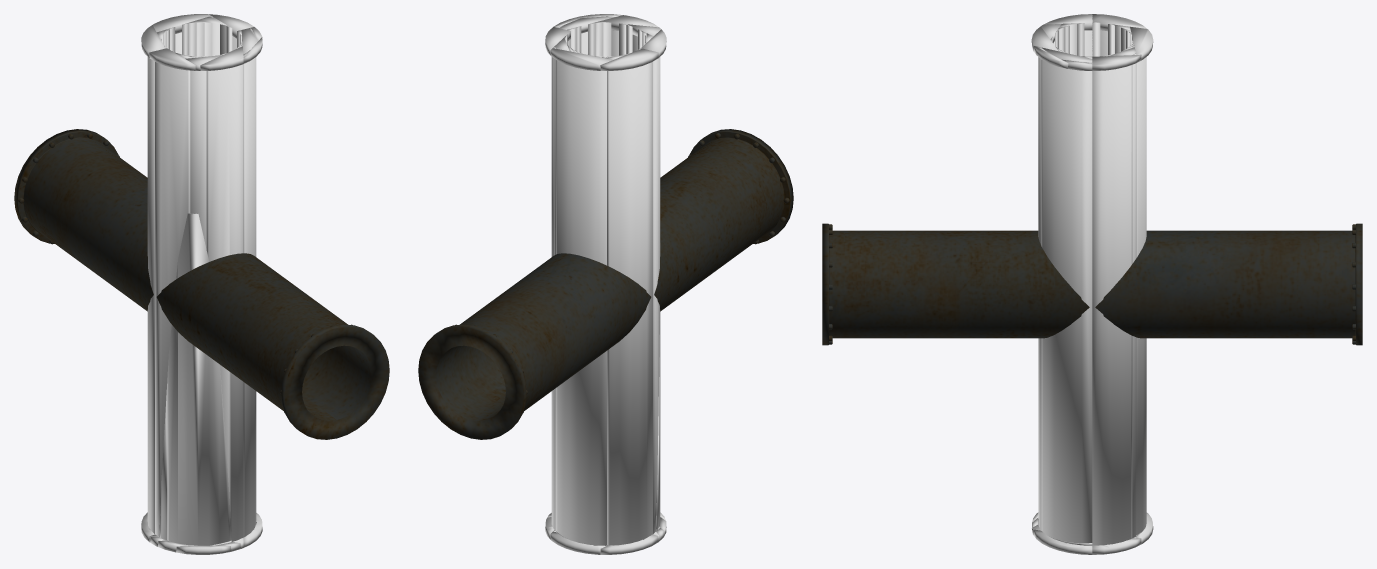
File: SM_Pipes_Large_Basic.fbx
3 renders of one model, left to right at view 1: azimuth 30°, elevation 25°; view 2: azimuth 150°, elevation 25°; view 3: azimuth 270°, elevation 25°, orthographic.
Parts seen in each view (by area): view 1: SM_Pipes_Large_Basic_ConvexHulls, SM_Pipes_Large_Basic; view 2: SM_Pipes_Large_Basic_ConvexHulls, SM_Pipes_Large_Basic; view 3: SM_Pipes_Large_Basic_ConvexHulls, SM_Pipes_Large_Basic.
Boxes of the visible parts, bbox=[...] form: SM_Pipes_Large_Basic_ConvexHulls: bbox=[141, 14, 262, 554]; SM_Pipes_Large_Basic: bbox=[14, 129, 389, 439]; SM_Pipes_Large_Basic_ConvexHulls: bbox=[545, 14, 666, 554]; SM_Pipes_Large_Basic: bbox=[418, 129, 793, 439]; SM_Pipes_Large_Basic_ConvexHulls: bbox=[1031, 14, 1153, 554]; SM_Pipes_Large_Basic: bbox=[822, 223, 1362, 345].
Size of the model in its own units: 0.9005 by 4 by 4.
